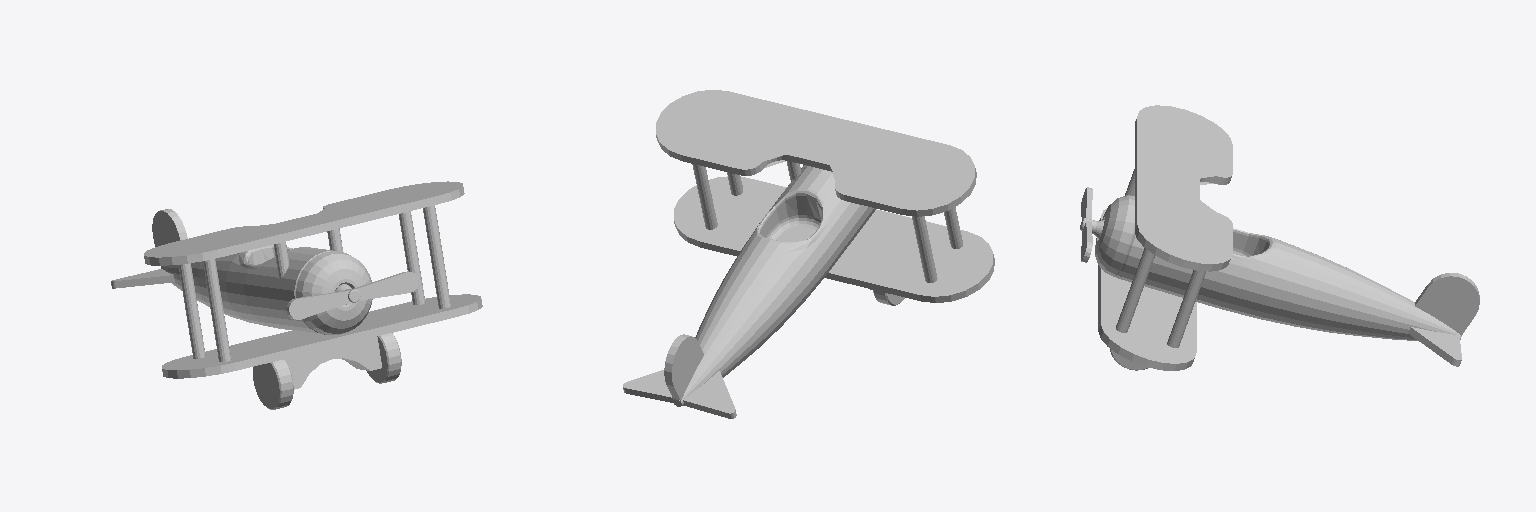
Rendered from WoodToy_3.obj.
3 views of the same model, side by side, from view 1: azimuth 30°, elevation 25°; view 2: azimuth 150°, elevation 25°; view 3: azimuth 270°, elevation 25° (orthographic).
Visible parts, largest first — view 1: Cylinder.011, Cube.006_Cube.008, Cube.005_Cube.007, Cylinder.012, Cylinder.013, Cube.009_Cube.011, Cube.010_Cube.012, Cube.007_Cube.009, Cube.008_Cube.010; view 2: Cube.006_Cube.008, Cylinder.011, Cube.005_Cube.007, Cylinder.012, Cube.008_Cube.010, Cube.007_Cube.009; view 3: Cylinder.011, Cube.006_Cube.008, Cube.005_Cube.007, Cube.007_Cube.009, Cylinder.012, Cube.008_Cube.010, Cube.009_Cube.011.
Part boxes in pixels (x1,y1,x2,y2): Cylinder.011: (161, 245, 372, 334); Cube.006_Cube.008: (144, 181, 464, 265); Cube.005_Cube.007: (162, 294, 482, 378); Cylinder.012: (178, 205, 450, 361); Cylinder.013: (253, 333, 401, 409); Cube.009_Cube.011: (287, 271, 417, 319); Cube.010_Cube.012: (285, 337, 381, 389); Cube.007_Cube.009: (152, 209, 187, 267); Cube.008_Cube.010: (111, 269, 174, 288); Cube.006_Cube.008: (656, 90, 976, 216); Cylinder.011: (673, 165, 875, 406); Cube.005_Cube.007: (674, 176, 994, 302); Cylinder.012: (692, 161, 962, 282); Cube.008_Cube.010: (623, 370, 736, 418); Cube.007_Cube.009: (664, 334, 703, 400); Cylinder.011: (1080, 195, 1461, 340); Cube.006_Cube.008: (1135, 105, 1232, 271); Cube.005_Cube.007: (1098, 209, 1196, 370); Cube.007_Cube.009: (1415, 273, 1479, 335); Cylinder.012: (1116, 169, 1205, 347); Cube.008_Cube.010: (1408, 327, 1461, 366); Cube.009_Cube.011: (1081, 187, 1092, 262).
Bounding box in the file's own units: 10.17 × 5.38 × 11.42.